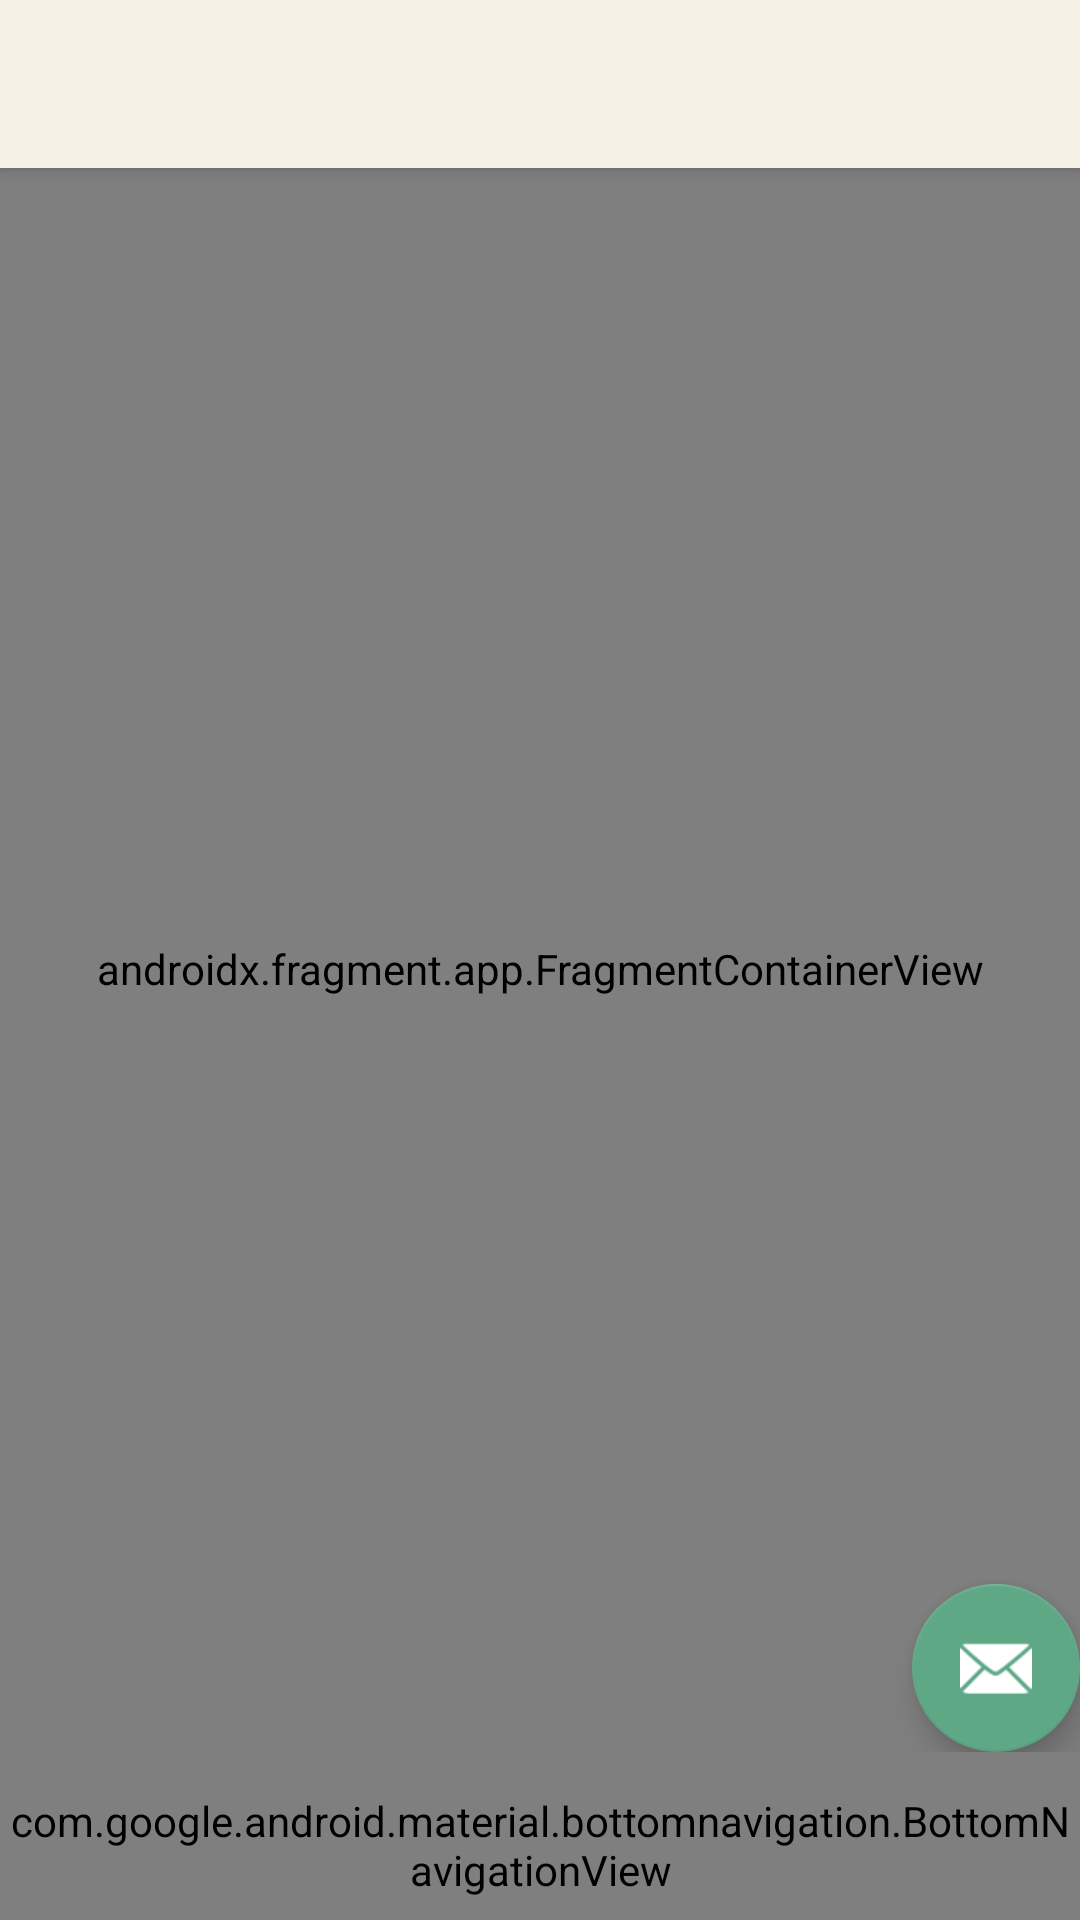

Where icons sit on this 1080 × 1920 app screen, as (x1, y1, x2, y2):
执行主要操作: (912, 1584, 1080, 1752)
